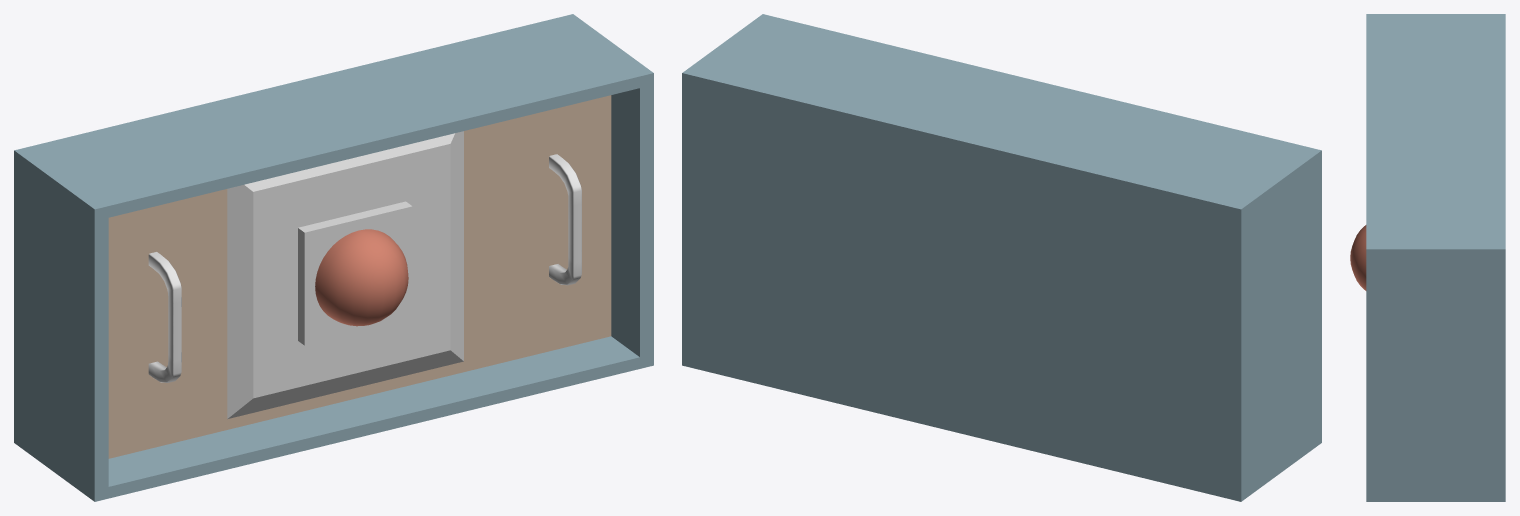
The model's file is Block4A.fbx.
3 views of the same model, side by side, from view 1: azimuth 30°, elevation 25°; view 2: azimuth 150°, elevation 25°; view 3: azimuth 270°, elevation 25° (orthographic). The views are drawn at different scales.
Visible parts, largest first — view 1: Block4; view 2: Block4; view 3: Block4.
Boxes of the visible parts, x1,y1,x2,y2 form: Block4: (14,14,653,501); Block4: (682,14,1321,501); Block4: (1350,14,1505,501).
Size of the model in its own units: 2 by 1 by 0.5584.
